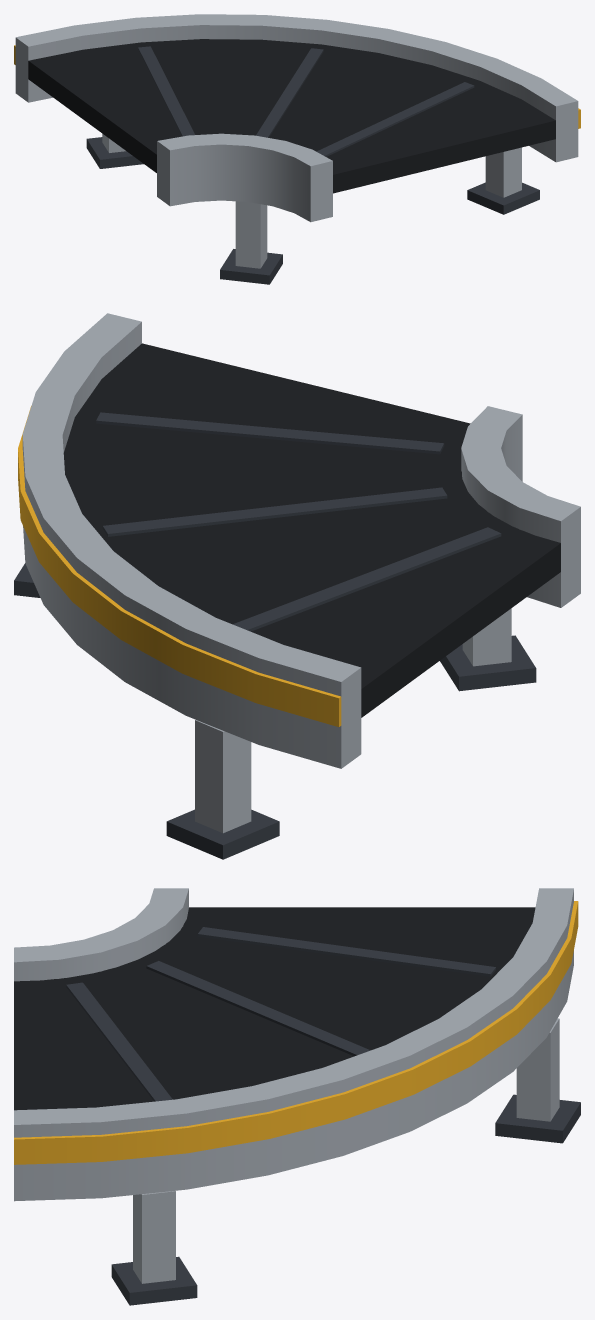
File: conveyor_corner.glb
3 renders of one model, top to bottom at view 1: azimuth 30°, elevation 25°; view 2: azimuth 150°, elevation 25°; view 3: azimuth 270°, elevation 25°, orthographic. The views are drawn at different scales.
Parts seen in each view (by area): view 1: conveyor_corner; view 2: conveyor_corner; view 3: conveyor_corner.
Boxes of the visible parts, x1,y1,x2,y2 form: conveyor_corner: (14, 14, 580, 284); conveyor_corner: (14, 313, 580, 859); conveyor_corner: (14, 888, 580, 1305).
Bounding box in the file's own units: 0.8098 × 0.28 × 0.8098.
